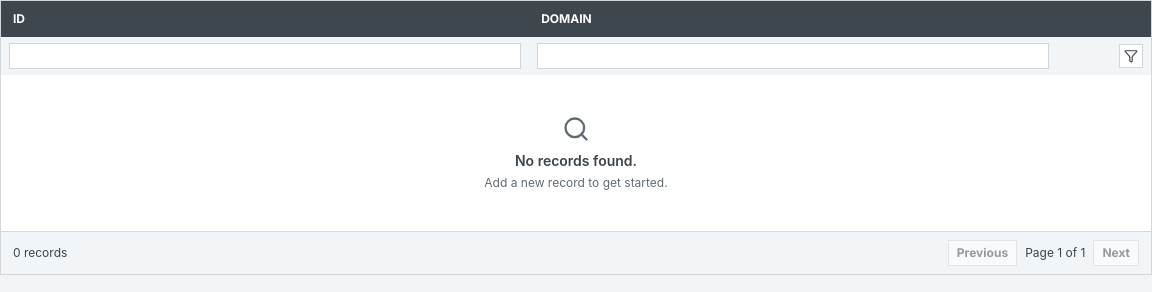
it: DataTable › filtered empty state hints at clearing filters
Type "nope" into the field named "Filter: ID". click: (265, 56)
box: [9,43,521,69]
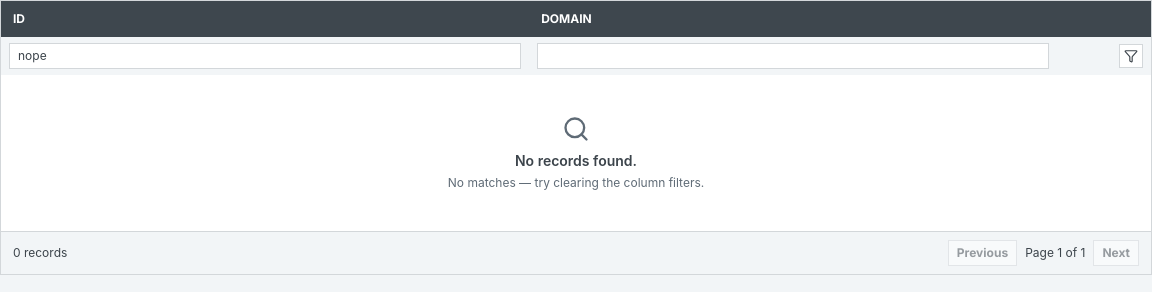
Expected: the row with test id "empty-state" shows "clearing the column filters", [448,175,704,190]
